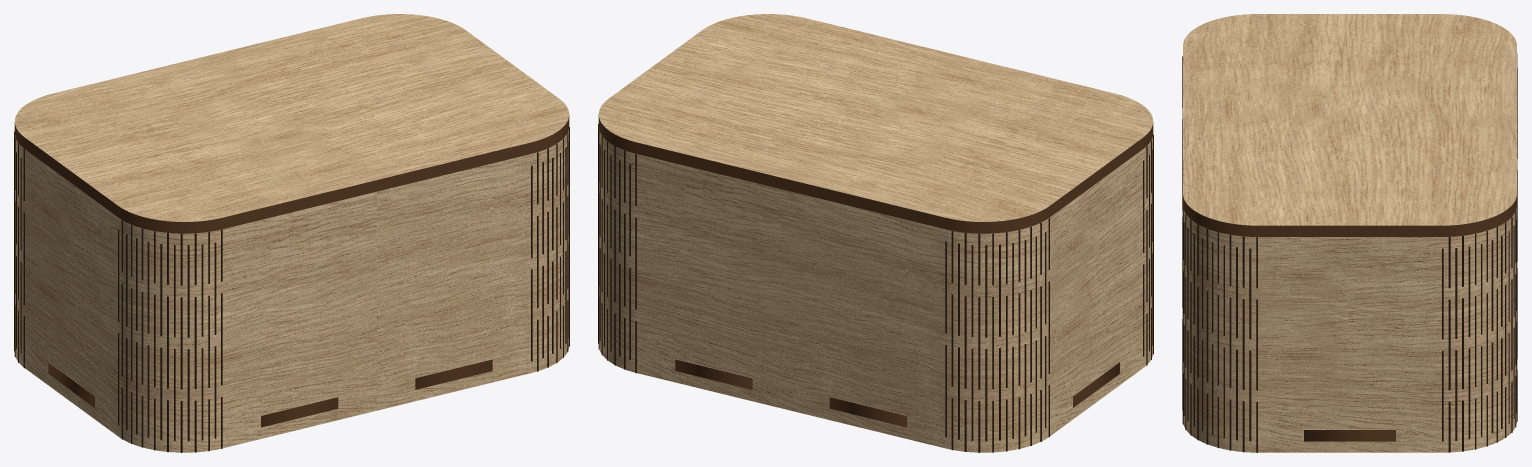
File: flex-box.glb
3 renders of one model, left to right at view 1: azimuth 30°, elevation 25°; view 2: azimuth 150°, elevation 25°; view 3: azimuth 270°, elevation 25°, orthographic.
Parts seen in each view (by area): view 1: body0, body2, cutline0, body1; view 2: body0, body2, cutline0, body1; view 3: body2, body0, cutline0, body1.
Part boxes in pixels (<box>): body0: <box>14,126,569,452</box>; body2: <box>14,14,569,233</box>; cutline0: <box>14,127,569,452</box>; body1: <box>48,359,492,427</box>; body0: <box>598,126,1152,452</box>; body2: <box>598,14,1153,233</box>; cutline0: <box>598,124,1153,452</box>; body1: <box>675,359,1119,427</box>; body2: <box>1183,14,1516,236</box>; body0: <box>1183,206,1516,452</box>; cutline0: <box>1182,54,1517,452</box>; body1: <box>1304,429,1395,441</box>.
Size of the model in its own units: 0.1203 by 0.06 by 0.0803.
Materials: 3 (1 with a texture image).
